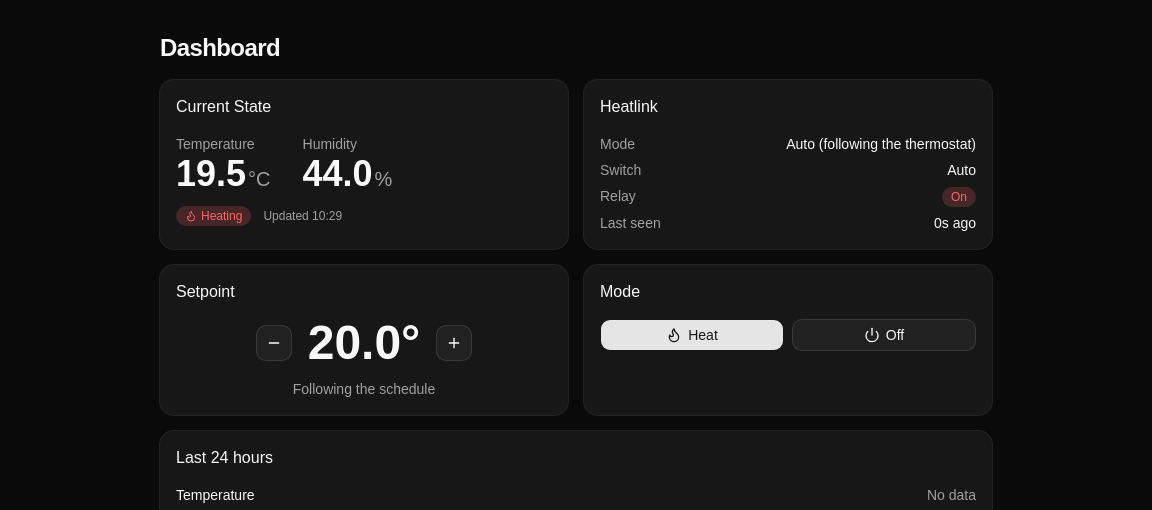
Test case: Dashboard › posts a mode change, shows it optimistically, then refetches
expect the text "19.5" is shown: met, box 176,153 -> 246,194
Step 1. Click the button "Off" → point(884, 335), box 792,319 -> 976,351
Wait 3100 ms
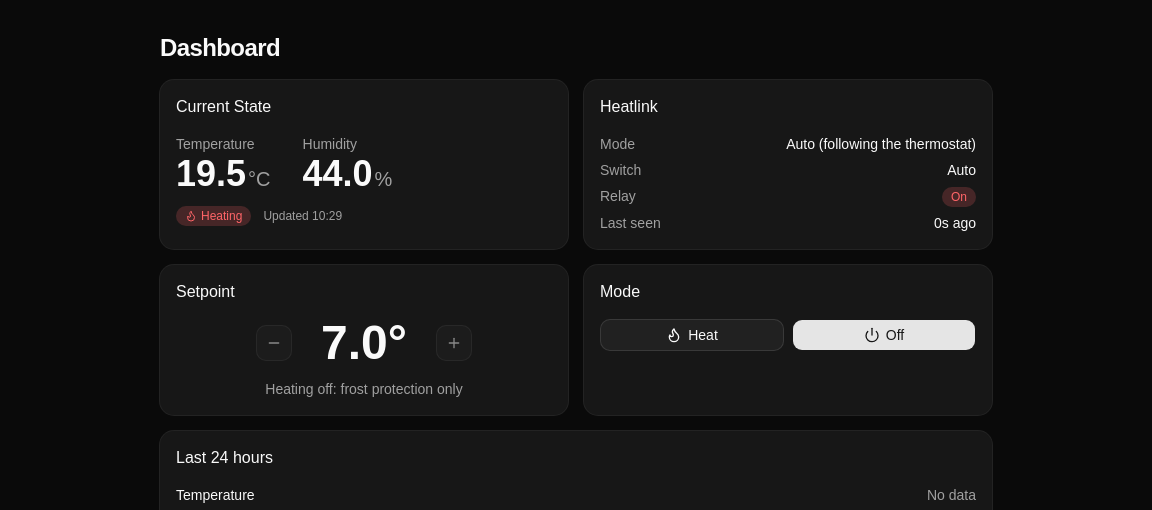
expect the text "Heating off: frost protection only" is shown: met, box 265,379 -> 463,399
